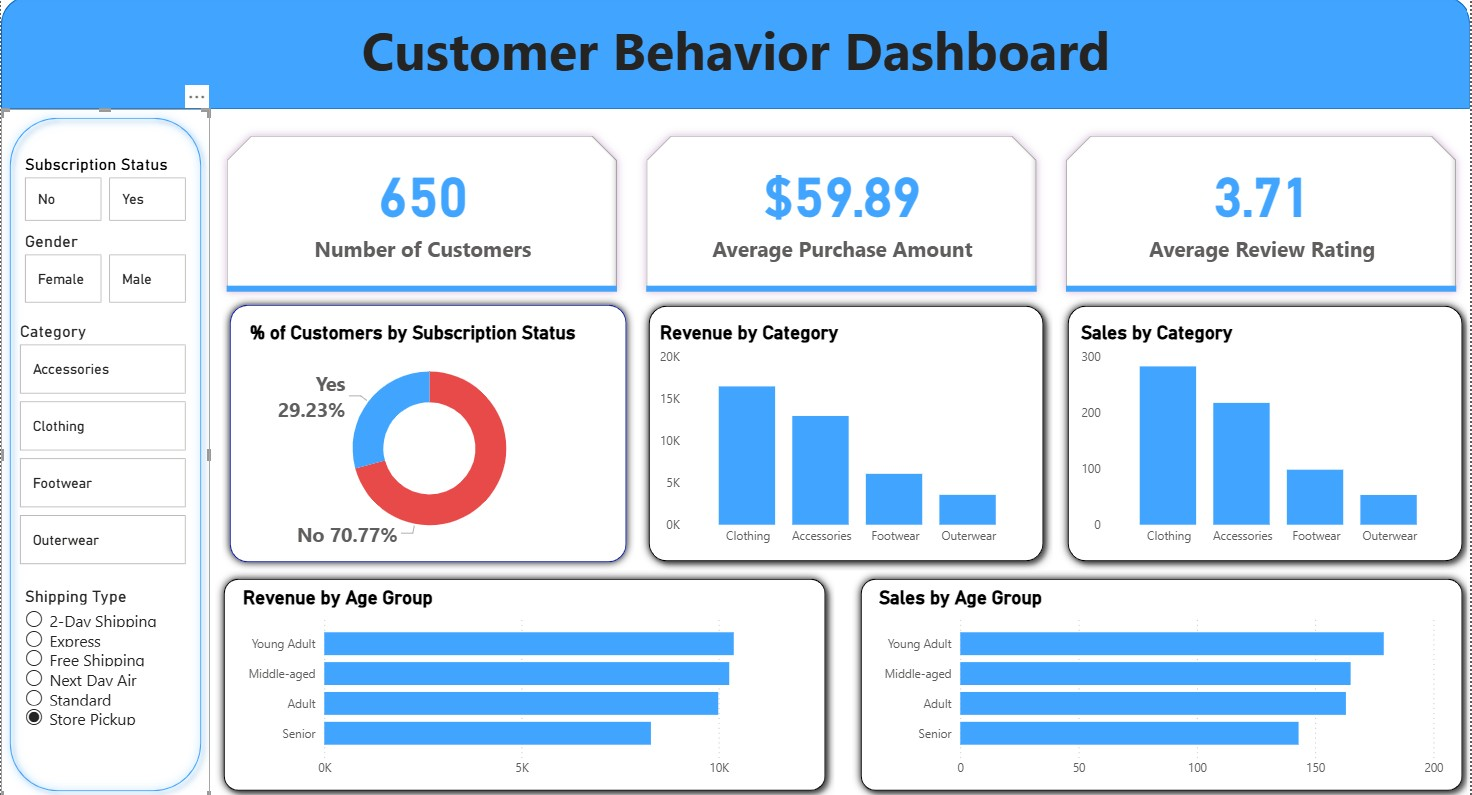

Layout of this report page (visuals, bound fields, positions):
{"tool":"powerbi","page":{"name":"Page 1","canvas":[1500,820],"ordinal":0},"visuals":[{"type":"cardVisual","fields":{"Data":["public customer.Number of Customers","public customer.Average Purchase Amount","public customer.Average Review Rating"]},"box":[214.2,126.5,1286.1,191.7],"z":2000},{"type":"shape","box":[218.3,585.6,631.7,234.2],"z":2500,"group":"g1"},{"type":"shape","box":[0,0,1499.4,115.3],"z":3000},{"type":"textbox","box":[0,12.4,1499.4,102.9],"z":4000},{"type":"shape","box":[225.4,307,420.5,278.6],"z":5000},{"type":"donutChart","title":"% of Customers by Subscription Status","fields":{"Category":["public customer.subscription_status"],"Y":["CountNonNull(public customer.customer_id)"]},"box":[248.4,331.8,376.2,237.8],"z":6000},{"type":"shape","box":[1078.9,307,420.5,278.6],"z":7000},{"type":"shape","box":[652.1,307,420.5,278.6],"z":8000},{"type":"clusteredColumnChart","title":"Revenue by Category","fields":{"Y":["Sum(public customer.purchase_amount)"],"Category":["public customer.category"]},"box":[667.2,331.8,385.1,237.8],"z":9000},{"type":"clusteredColumnChart","title":"Sales by Category","fields":{"Y":["CountNonNull(public customer.customer_id)"],"Category":["public customer.category"]},"box":[1096.6,331.8,385.1,237.8],"z":10000},{"type":"shape","box":[0,115.2,213.2,704.8],"z":11000},{"type":"advancedSlicerVisual","fields":{"Values":["public customer.subscription_status"]},"box":[19.4,161.1,174.4,73.4],"z":12000},{"type":"advancedSlicerVisual","fields":{"Values":["public customer.gender"]},"box":[19.4,239.7,174.4,78.5],"z":13000},{"type":"advancedSlicerVisual","fields":{"Values":["public customer.category"]},"box":[14.3,331.5,179.5,254],"z":14000},{"type":"listSlicer","fields":{"Values":["public customer.shipping_type"]},"box":[19.4,599.7,168.3,220.3],"z":15000},{"type":"shape","box":[867.7,585.6,631.7,234.2],"z":16000},{"type":"clusteredBarChart","title":"Sales by Age Group","fields":{"Y":["CountNonNull(public customer.customer_id)"],"Category":["public customer.age_group"]},"box":[890.8,601.5,585.6,204.1],"z":17000},{"type":"clusteredBarChart","title":"Revenue by Age Group","fields":{"Y":["Sum(public customer.purchase_amount)"],"Category":["public customer.age_group"]},"box":[241.4,601.6,585.6,204.1],"z":17500,"group":"g1"},{"type":"group","id":"g1","title":"Group 1","box":[218.3,585.6,631.7,234.2],"z":17501}]}

Visuals, with their boxes in screenshot pixels (x1, y1, x2, y2):
cardVisual - public customer.Number of Customers x public customer.Average Purchase Amount: 212 114 1471 303
shape: 216 568 841 794
shape: 0 0 1471 103
textbox: 0 1 1471 103
shape: 223 292 639 568
"% of Customers by Subscription Status" donutChart: 246 317 618 552
shape: 1067 292 1471 568
shape: 645 292 1061 568
"Revenue by Category" clusteredColumnChart: 660 317 1041 552
"Sales by Category" clusteredColumnChart: 1085 317 1466 552
shape: 0 102 211 794
advancedSlicerVisual - public customer.subscription_status: 19 148 192 221
advancedSlicerVisual - public customer.gender: 19 226 192 303
advancedSlicerVisual - public customer.category: 14 317 192 568
listSlicer - public customer.shipping_type: 19 582 186 794
shape: 858 568 1471 794
"Sales by Age Group" clusteredBarChart: 881 584 1461 786
"Revenue by Age Group" clusteredBarChart: 239 584 818 786
"Group 1" group: 216 568 841 794
